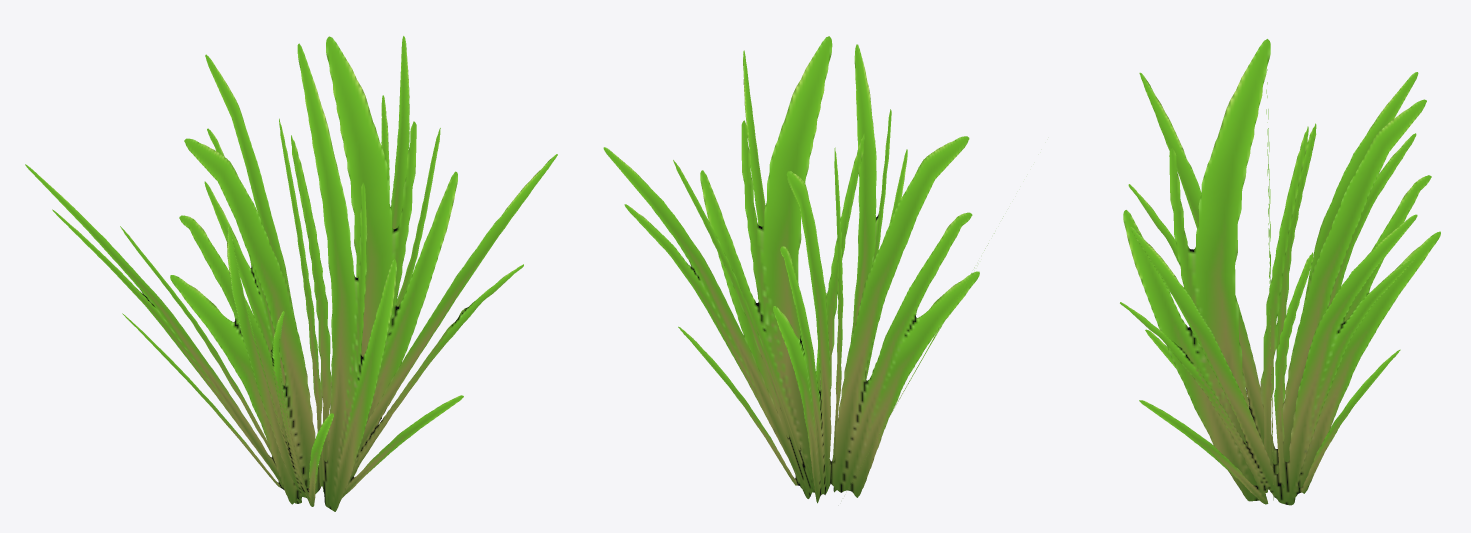
File: SM_F_Grass_02.fbx
3 renders of one model, left to right at view 1: azimuth 30°, elevation 25°; view 2: azimuth 150°, elevation 25°; view 3: azimuth 270°, elevation 25°, orthographic. The views are drawn at different scales.
Visible parts, largest first — view 1: SM_F_Grass_02; view 2: SM_F_Grass_02; view 3: SM_F_Grass_02.
Boxes of the visible parts, box(x1,y1,x2,y2) form: SM_F_Grass_02: box(25, 36, 557, 511); SM_F_Grass_02: box(603, 36, 1003, 503); SM_F_Grass_02: box(1120, 39, 1440, 505).
Size of the model in its own units: 31.48 by 38.02 by 26.3.
